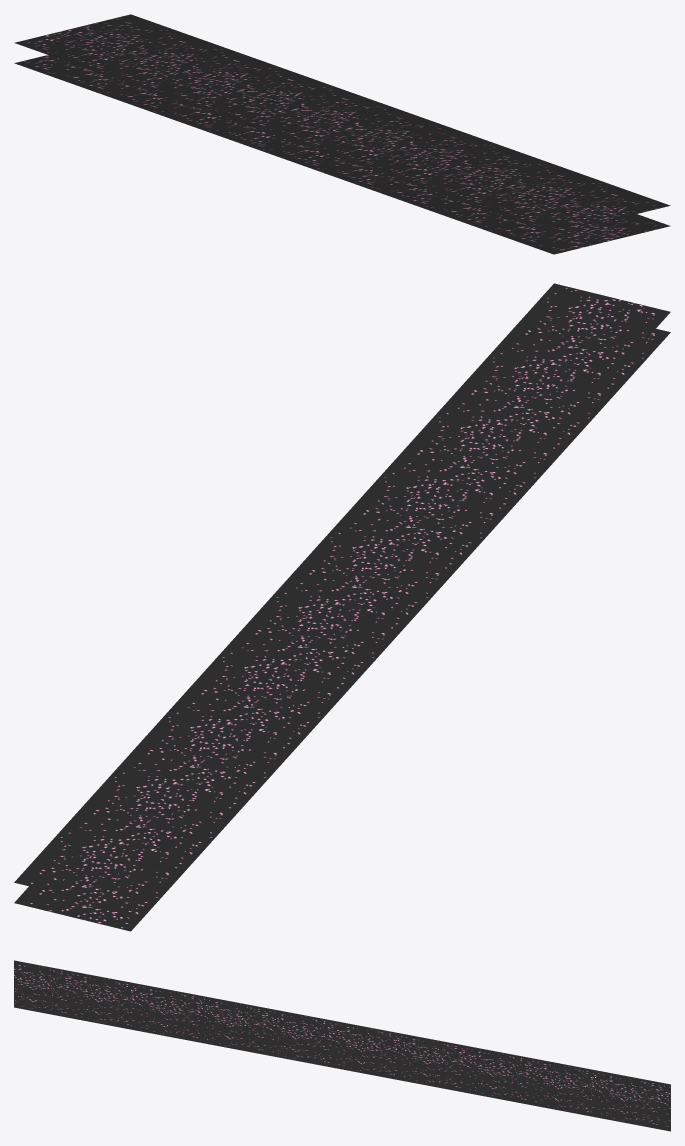
File: CourseSpring_Box_Floor_9.fbx
3 views of the same model, one above another, from view 1: azimuth 30°, elevation 25°; view 2: azimuth 150°, elevation 25°; view 3: azimuth 270°, elevation 25° (orthographic). The views are drawn at different scales.
Parts seen in each view (by area): view 1: polySurface56; view 2: polySurface56; view 3: polySurface56.
Boxes of the visible parts, x1,y1,x2,y2 form: polySurface56: (14,14,670,254); polySurface56: (14,283,670,931); polySurface56: (14,960,670,1131).
Bounding box in the file's own units: 6 × 11 × 48.
1 material, 1 textured.
